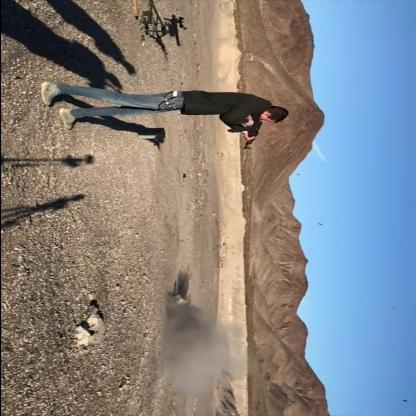long weapon: (222, 109, 268, 153)
